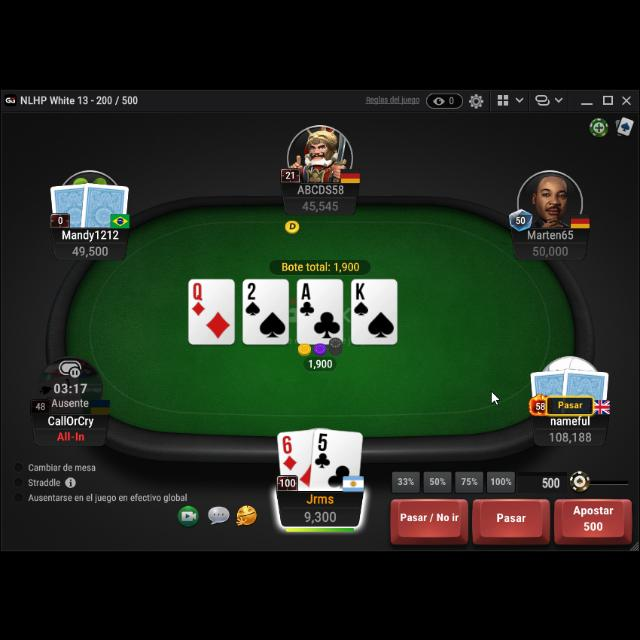2s: (244, 279, 262, 315)
5c: (314, 430, 332, 468)
6d: (282, 432, 298, 470)
Ac: (298, 280, 316, 316)
Ks: (352, 279, 370, 315)
Qd: (190, 280, 208, 314)
all_in_symbol: (58, 429, 86, 441)
bet_text: (309, 354, 335, 368)
card_back: (80, 178, 130, 230), (560, 364, 610, 412), (48, 179, 92, 229), (529, 364, 569, 412)
dealer: (284, 218, 302, 235)
hero_active: (388, 493, 632, 543)
pot_text: (280, 257, 360, 269)
stack_text: (302, 503, 338, 523), (549, 426, 593, 442), (72, 243, 110, 257), (531, 241, 569, 255), (302, 198, 340, 212)
